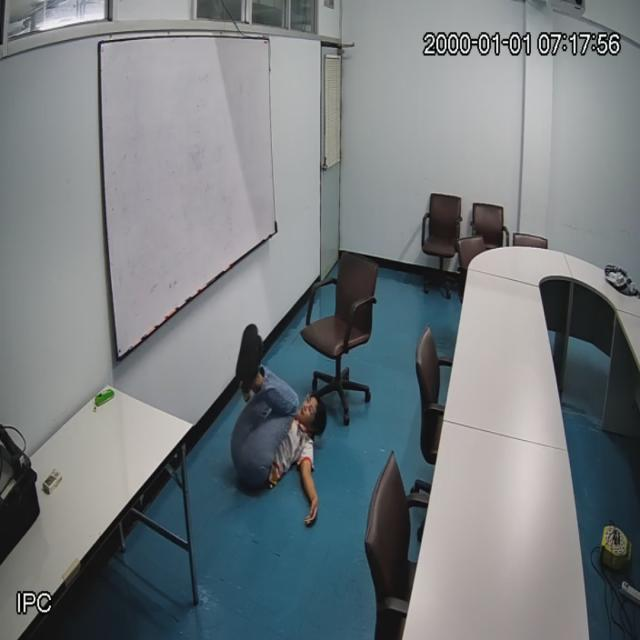fall: (231, 324, 321, 526)
